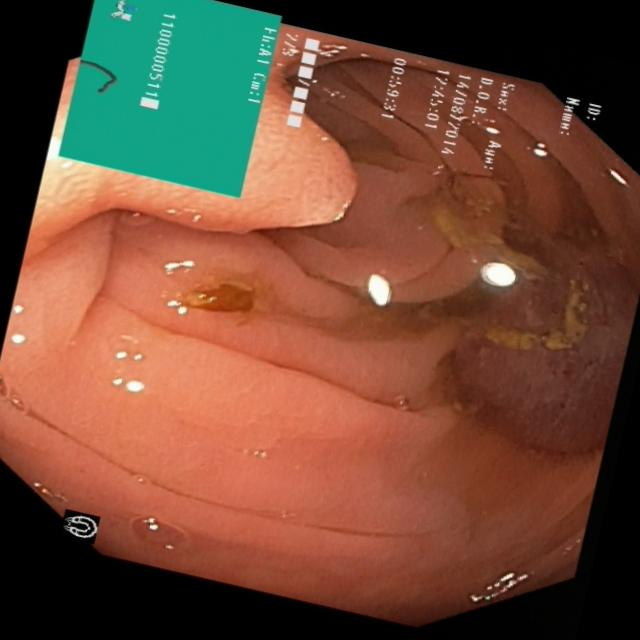Polyps: (31, 80, 359, 256), (160, 274, 260, 325)
